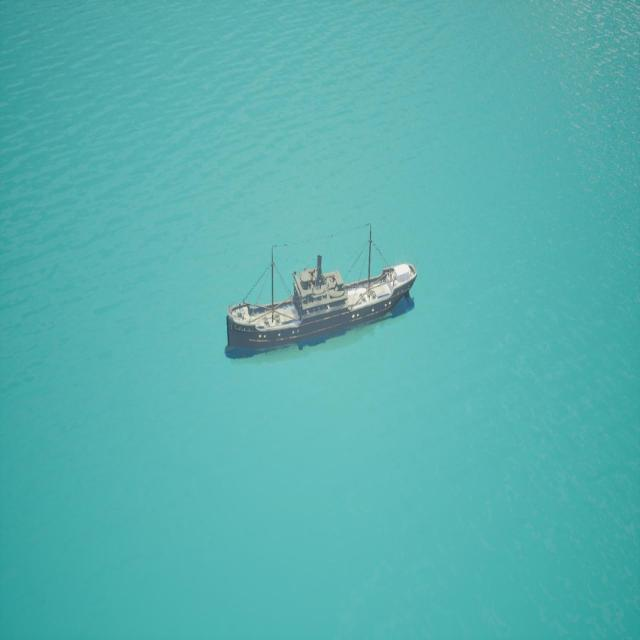fishing ship: (228, 227, 418, 359)
